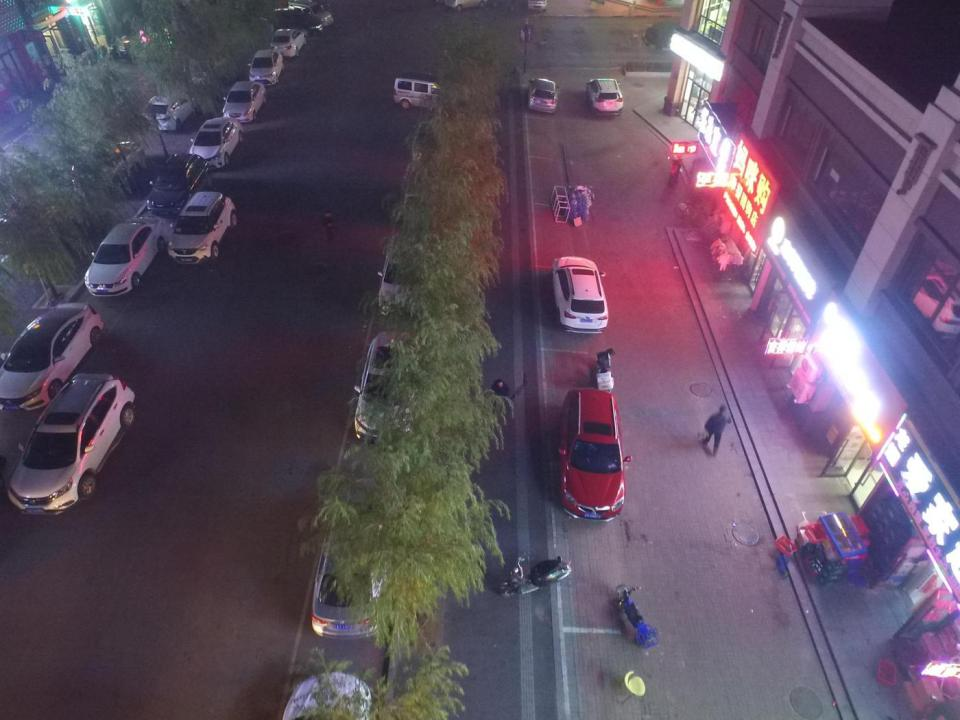car: (312, 478, 392, 638), (0, 303, 104, 412), (558, 389, 632, 520), (84, 218, 166, 296), (166, 191, 236, 264), (0, 190, 84, 248), (552, 256, 608, 334), (71, 141, 145, 189), (188, 117, 243, 169), (144, 95, 195, 131), (222, 81, 266, 122), (264, 7, 322, 36), (412, 120, 448, 163), (586, 78, 623, 116), (247, 49, 283, 86), (528, 78, 559, 115), (288, 1, 333, 25), (269, 29, 306, 57)
van: (8, 373, 134, 516), (354, 332, 421, 444), (378, 233, 428, 316), (147, 154, 211, 215), (393, 72, 457, 112), (404, 162, 436, 223), (445, 0, 487, 11)
